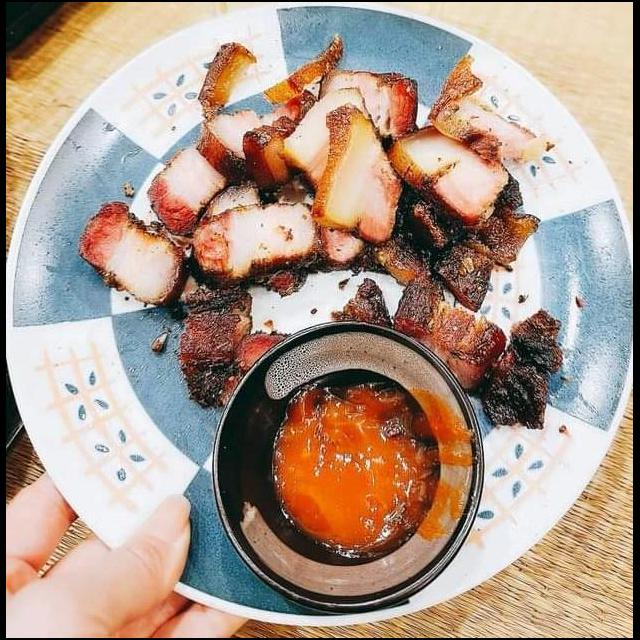thit heo quay: (406, 164, 542, 318), (184, 178, 328, 294), (386, 273, 510, 397), (424, 53, 554, 166), (382, 121, 516, 228), (310, 99, 408, 244), (74, 198, 194, 312), (192, 86, 322, 187), (472, 306, 566, 435), (276, 83, 378, 201), (176, 282, 260, 412), (144, 139, 232, 239), (314, 63, 422, 144)
